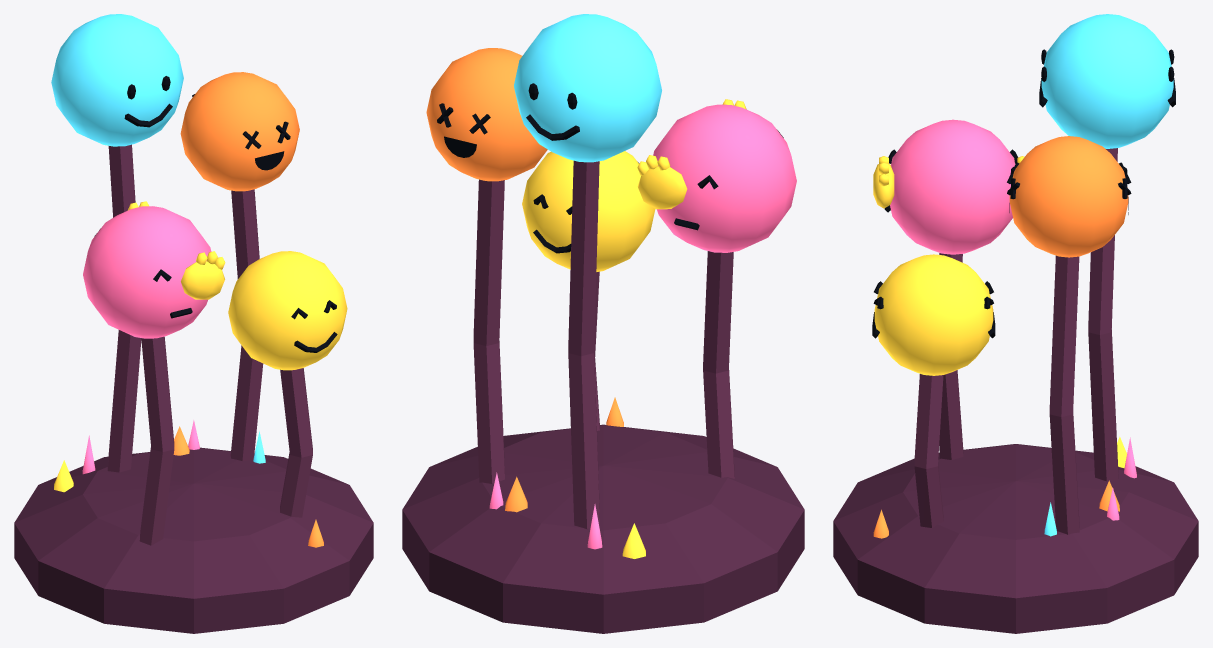
File: EmojiCoral_2.fbx
3 renders of one model, left to right at view 1: azimuth 30°, elevation 25°; view 2: azimuth 150°, elevation 25°; view 3: azimuth 270°, elevation 25°, orthographic. The views are drawn at different scales.
Parts seen in each view (by area): view 1: KIT_EmojiCoral_2_Mesh; view 2: KIT_EmojiCoral_2_Mesh; view 3: KIT_EmojiCoral_2_Mesh.
Part boxes in pixels (left/top/right/bottom): KIT_EmojiCoral_2_Mesh: left=14, top=14, right=373, bottom=633; KIT_EmojiCoral_2_Mesh: left=402, top=14, right=804, bottom=633; KIT_EmojiCoral_2_Mesh: left=833, top=14, right=1198, bottom=633.
Bounding box in the file's own units: 3.79 × 6.41 × 3.79.
